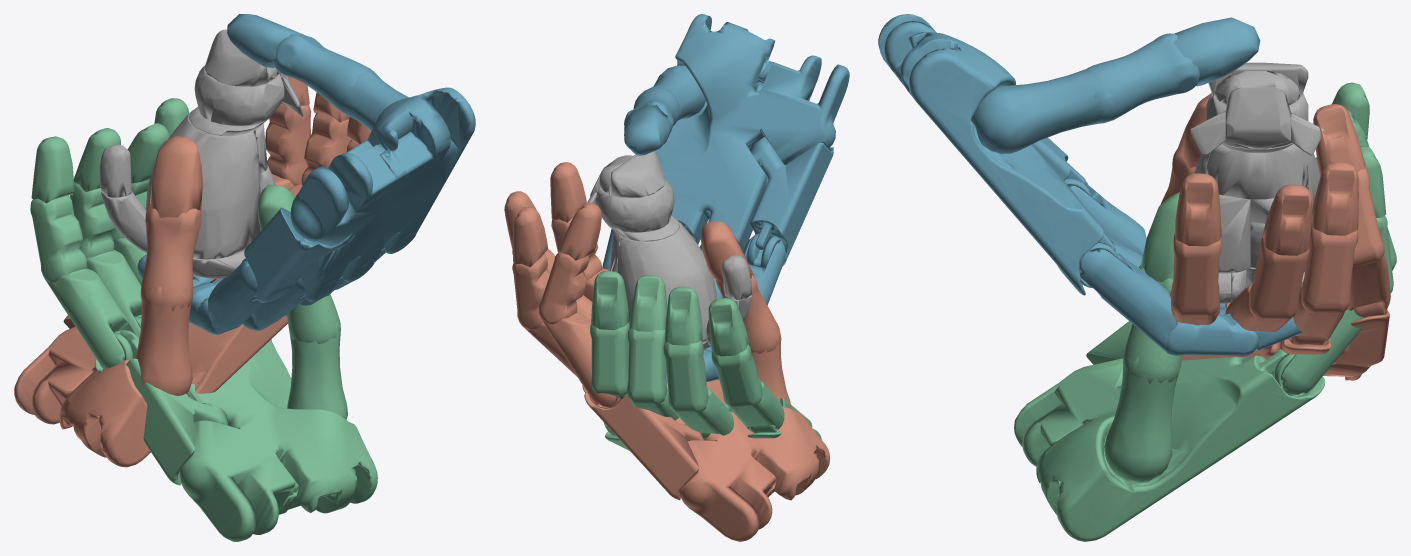
3 views of the same model, side by side, from view 1: azimuth 30°, elevation 25°; view 2: azimuth 150°, elevation 25°; view 3: azimuth 270°, elevation 25° (orthographic). The views are drawn at different scales.
Size of the model in its own units: 0.1509 by 0.2105 by 0.1964.
